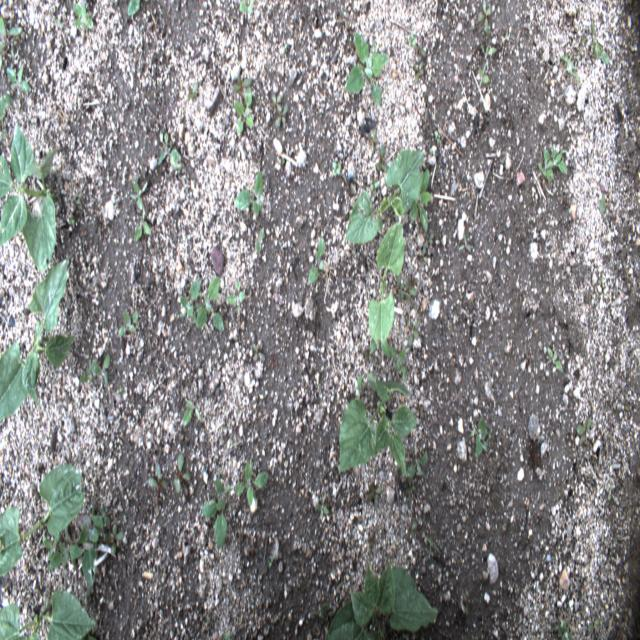crop: (1, 249, 81, 436), (1, 459, 92, 591), (335, 376, 421, 489), (1, 121, 62, 268), (345, 142, 434, 242), (327, 565, 442, 636), (367, 218, 403, 358), (0, 588, 98, 639)
weed: (44, 496, 110, 586), (171, 271, 227, 335), (344, 28, 389, 105), (198, 467, 230, 556), (477, 2, 497, 106), (128, 169, 154, 242), (237, 460, 270, 512), (156, 121, 190, 170), (235, 157, 265, 212), (530, 147, 576, 180), (302, 238, 331, 289), (464, 412, 492, 464), (86, 351, 113, 400), (0, 12, 31, 50), (236, 82, 254, 141), (2, 62, 31, 96), (173, 447, 194, 491), (116, 305, 141, 339), (142, 458, 170, 487), (272, 90, 287, 135), (181, 394, 202, 425), (70, 1, 96, 26)
